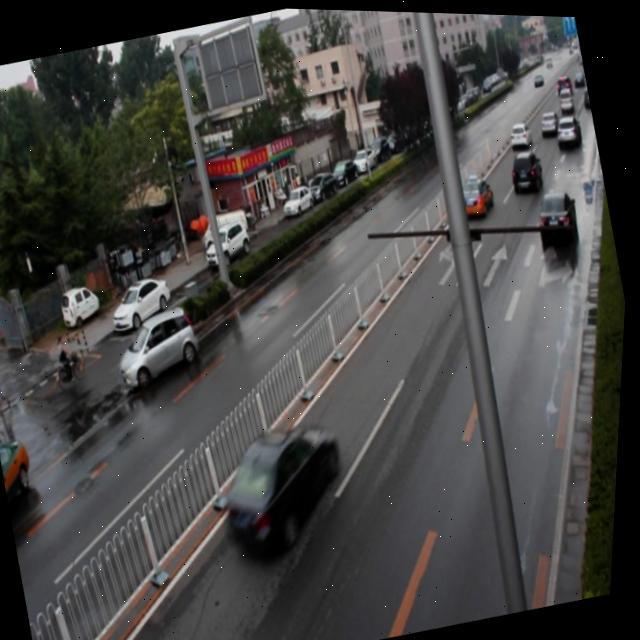car: (212, 410, 365, 565), (112, 303, 209, 393), (531, 183, 584, 245), (452, 166, 499, 224), (505, 143, 547, 195), (552, 111, 584, 147), (505, 115, 533, 150)
